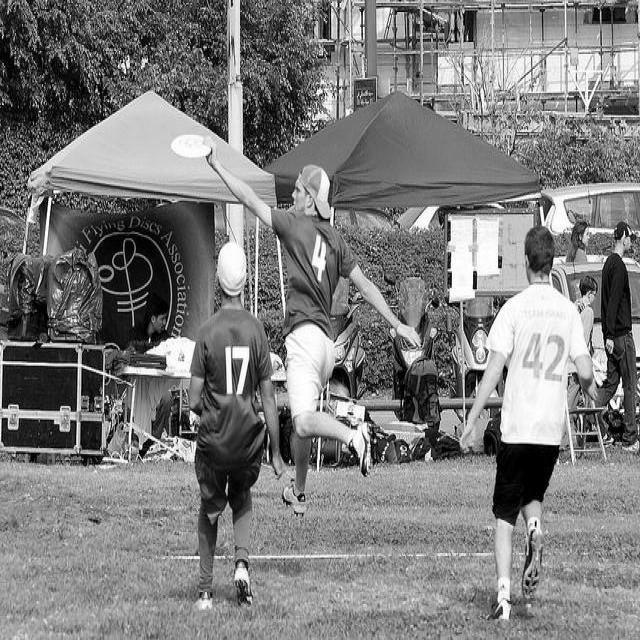vehicle: (549, 258, 640, 378), (381, 270, 439, 422), (448, 295, 506, 401), (541, 181, 640, 237), (330, 282, 369, 412), (335, 208, 401, 232)
